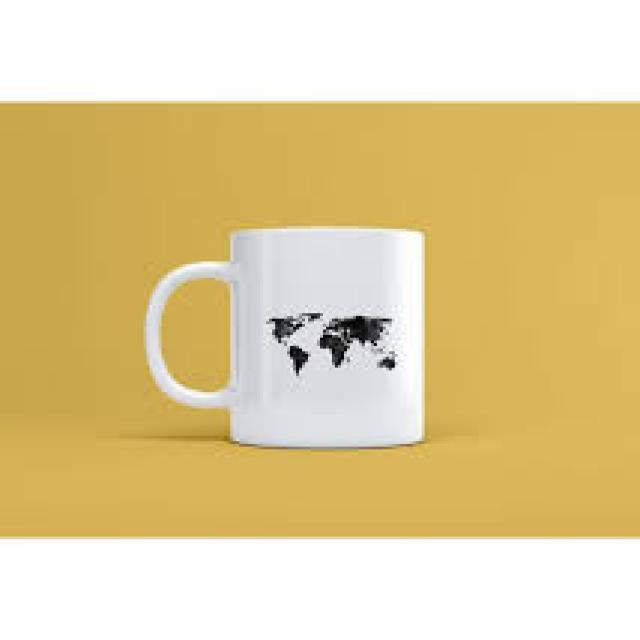taza: (144, 225, 426, 451)
